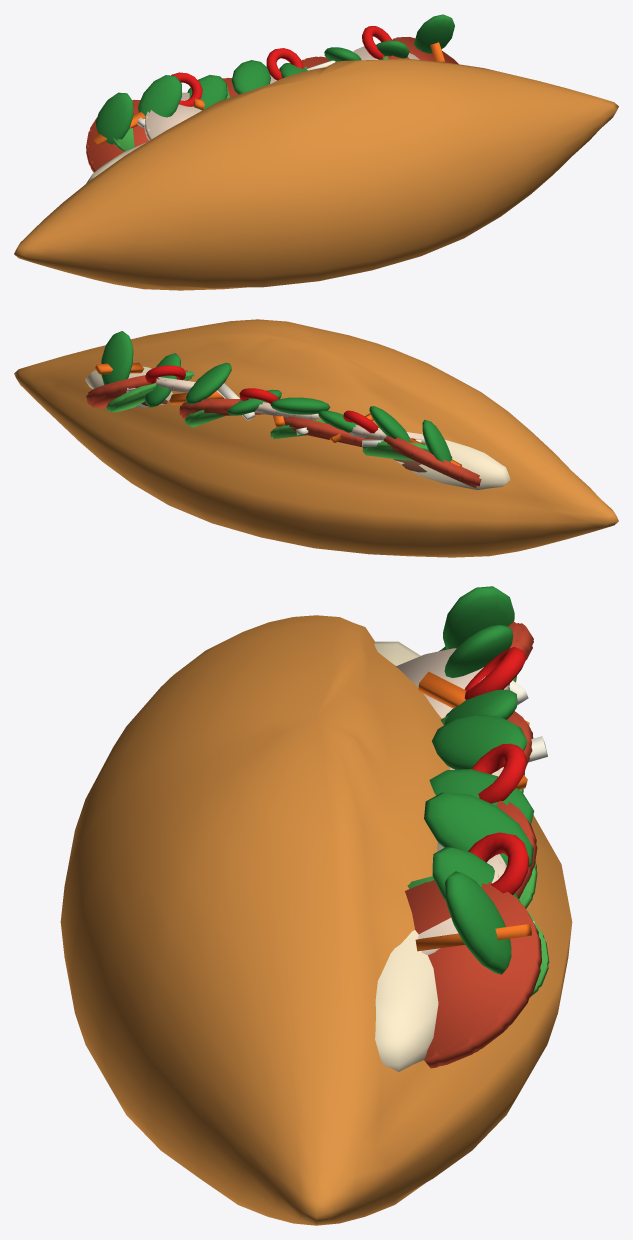
File: banh-mi.glb
The picture shows the model from 3 angles, top to bottom: view 1: azimuth 30°, elevation 25°; view 2: azimuth 150°, elevation 25°; view 3: azimuth 270°, elevation 25°; orthographic projection. The views are drawn at different scales.
Parts seen in each view (by area): view 1: Baguette, Cilantro_0, Cilantro_1, CharSiu_0, Cilantro_7, ChaLua_0, Cilantro_3, Cilantro_2, Chili_1, Chili_2, CharSiu_3, Chili_0 (+2 smaller); view 2: Baguette, InnerCrumb, CharSiu_0, Cilantro_7, CharSiu_1, CharSiu_3, Cilantro_5, Cilantro_3, Cucumber_3, CharSiu_2, Cilantro_0, Cilantro_1 (+11 smaller); view 3: Baguette, CharSiu_3, InnerCrumb, Cilantro_5, Cilantro_7, Cilantro_3, Cilantro_0, Cilantro_1, Chili_2, Chili_1, Cilantro_4, Cilantro_6 (+6 smaller).
Part boxes in pixels (x1=…): Baguette: x1=14, y1=58, x2=618, y2=290; Cilantro_0: x1=95, y1=92, x2=133, y2=144; Cilantro_1: x1=138, y1=75, x2=181, y2=117; CharSiu_0: x1=86, y1=99, x2=148, y2=172; Cilantro_7: x1=414, y1=14, x2=454, y2=53; ChaLua_0: x1=144, y1=92, x2=201, y2=140; Cilantro_3: x1=231, y1=60, x2=270, y2=94; Cilantro_2: x1=187, y1=75, x2=227, y2=110; Chili_1: x1=266, y1=48, x2=303, y2=80; Chili_2: x1=362, y1=26, x2=392, y2=59; CharSiu_3: x1=387, y1=37, x2=458, y2=64; Chili_0: x1=171, y1=72, x2=202, y2=106; Baguette: x1=14, y1=319, x2=618, y2=557; InnerCrumb: x1=85, y1=366, x2=510, y2=490; CharSiu_0: x1=383, y1=436, x2=481, y2=488; Cilantro_7: x1=101, y1=331, x2=133, y2=384; CharSiu_1: x1=283, y1=416, x2=375, y2=447; CharSiu_3: x1=86, y1=370, x2=187, y2=407; Cilantro_5: x1=186, y1=362, x2=231, y2=404; Cilantro_3: x1=270, y1=397, x2=330, y2=414; Cucumber_3: x1=106, y1=371, x2=194, y2=412; CharSiu_2: x1=179, y1=398, x2=263, y2=418; Cilantro_0: x1=422, y1=419, x2=451, y2=462; Cilantro_1: x1=369, y1=406, x2=410, y2=442; Baguette: x1=60, y1=615, x2=572, y2=1225; CharSiu_3: x1=405, y1=880, x2=541, y2=1068; InnerCrumb: x1=374, y1=641, x2=438, y2=1071; Cilantro_5: x1=424, y1=792, x2=533, y2=866; Cilantro_7: x1=445, y1=871, x2=511, y2=974; Cilantro_3: x1=432, y1=714, x2=527, y2=769; Cilantro_0: x1=443, y1=586, x2=514, y2=649; Cilantro_1: x1=444, y1=625, x2=513, y2=677; Chili_2: x1=468, y1=832, x2=529, y2=894; Chili_1: x1=471, y1=743, x2=526, y2=803; Cilantro_4: x1=429, y1=769, x2=534, y2=824; Cilantro_6: x1=432, y1=847, x2=520, y2=902.
Size of the model in its own units: 1.65 by 0.436 by 0.6042.
